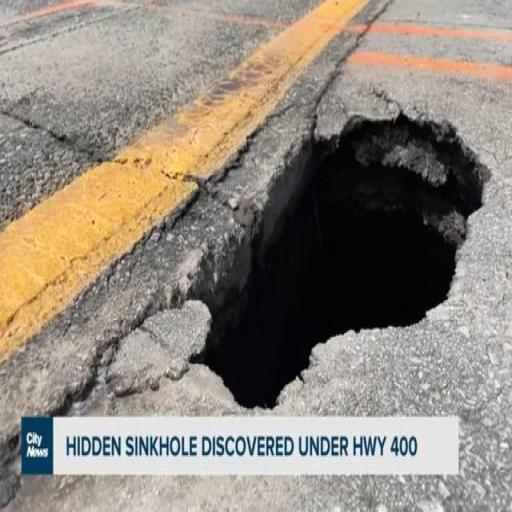Concentric_Crack: (106, 114, 488, 406)
